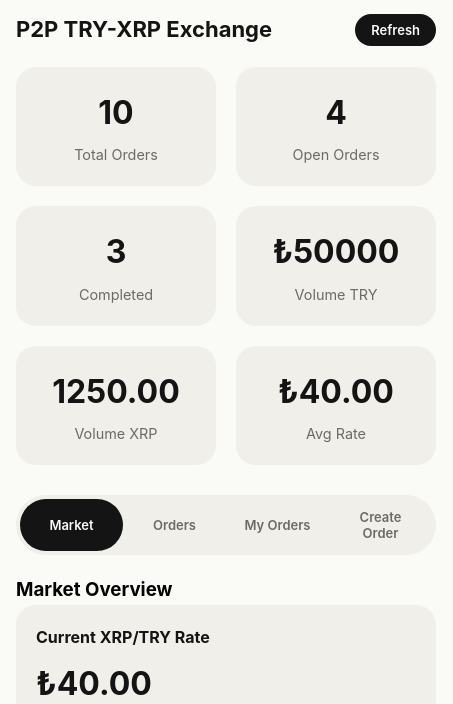
it: P2PExchange › tab switching renders Orders, My Orders and Create views
The image size is (453, 704).
Click the button "Orders". click: [174, 525]
box: [123, 499, 226, 551]
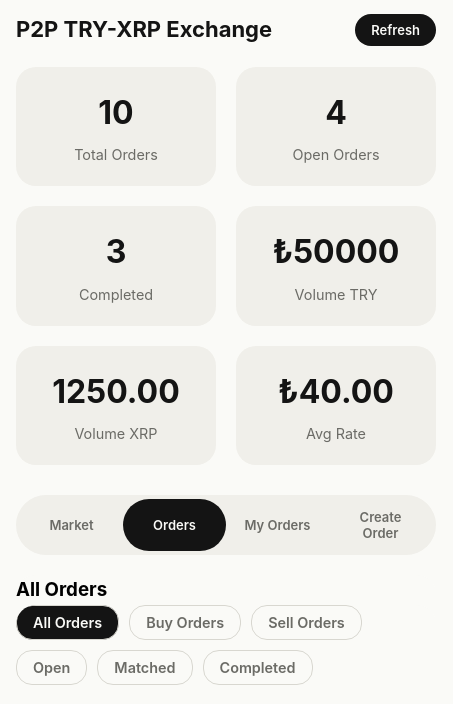
Check: the heading "All Orders" is shown, box [16, 578, 107, 601]
Click the button "My Orders". click: [278, 525]
box: [226, 499, 329, 551]
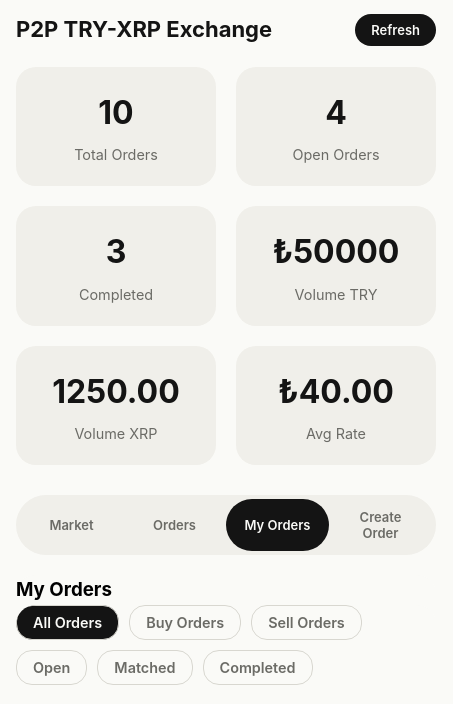
Click the button "Create Order". click: [380, 525]
box: [329, 499, 432, 551]
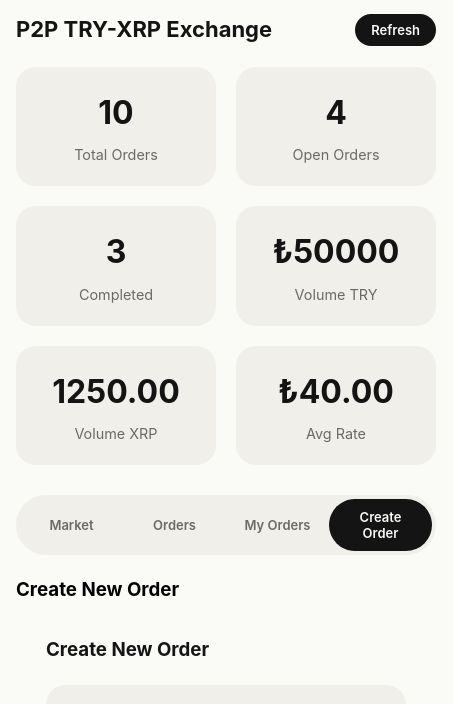
Check: the 1st heading "Create New Order" is shown, box [16, 578, 179, 601]
